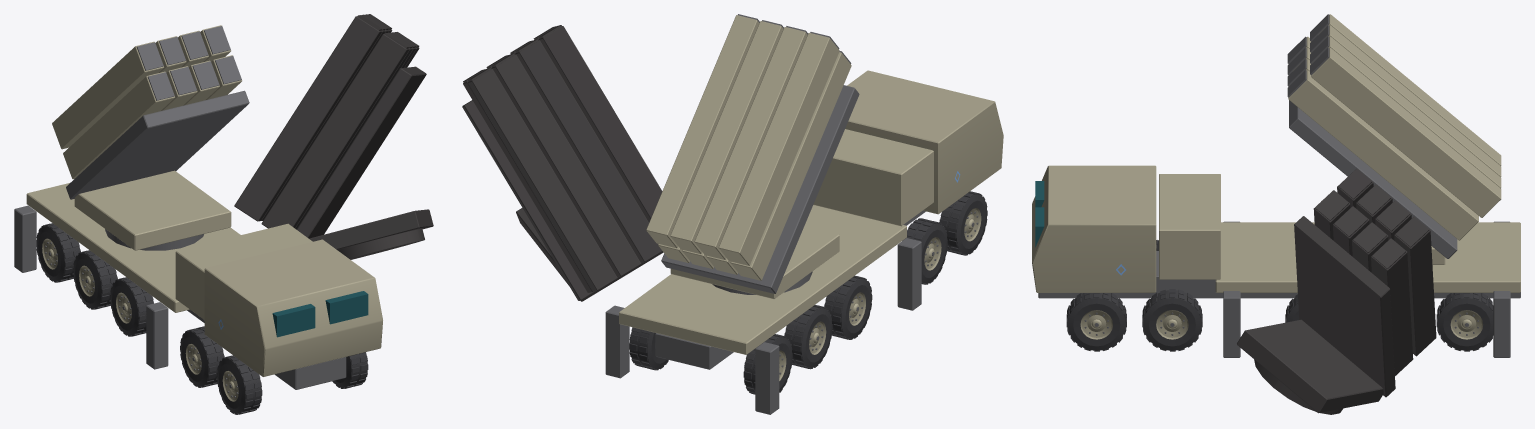
Rendered from saudiThaad__saudi_thaad.glb.
The picture shows the model from 3 angles, left to right: view 1: azimuth 30°, elevation 25°; view 2: azimuth 150°, elevation 25°; view 3: azimuth 270°, elevation 25°; orthographic projection. The views are drawn at different scales.
Parts seen in each view (by area): view 1: Hull_Mesh, Wreck, Gun_Mesh, Turret_Mesh, Wheel_L4_Mesh, Wheel_L3_Mesh, Wheel_L0_Mesh, Wheel_L1_Mesh, Wheel_L2_Mesh, Wheel_R4_Mesh; view 2: Hull_Mesh, Gun_Mesh, Wreck, Turret_Mesh, Wheel_L4_Mesh, Wheel_L1_Mesh, Wheel_L2_Mesh, Wheel_L3_Mesh, Wheel_L0_Mesh, Wheel_R0_Mesh; view 3: Hull_Mesh, Wreck, Gun_Mesh, Wheel_R3_Mesh, Wheel_R4_Mesh, Wheel_R0_Mesh.
Part boxes in pixels (x1=…): Hull_Mesh: x1=14, y1=183, x2=382, y2=389; Wreck: x1=55, y1=14, x2=433, y2=412; Gun_Mesh: x1=52, y1=25, x2=249, y2=199; Turret_Mesh: x1=74, y1=170, x2=231, y2=250; Wheel_L4_Mesh: x1=217, y1=355, x2=262, y2=414; Wheel_L3_Mesh: x1=180, y1=326, x2=224, y2=387; Wheel_L0_Mesh: x1=36, y1=223, x2=80, y2=282; Wheel_L1_Mesh: x1=73, y1=250, x2=117, y2=309; Wheel_L2_Mesh: x1=110, y1=277, x2=153, y2=336; Wheel_R4_Mesh: x1=332, y1=352, x2=368, y2=388; Hull_Mesh: x1=605, y1=70, x2=1003, y2=414; Gun_Mesh: x1=646, y1=14, x2=859, y2=293; Wreck: x1=462, y1=25, x2=846, y2=369; Turret_Mesh: x1=670, y1=226, x2=839, y2=298; Wheel_L4_Mesh: x1=939, y1=191, x2=987, y2=255; Wheel_L1_Mesh: x1=784, y1=305, x2=832, y2=369; Wheel_L2_Mesh: x1=824, y1=275, x2=872, y2=339; Wheel_L3_Mesh: x1=902, y1=218, x2=947, y2=284; Wheel_L0_Mesh: x1=743, y1=334, x2=792, y2=394; Wheel_R0_Mesh: x1=629, y1=327, x2=668, y2=370; Hull_Mesh: x1=1032, y1=165, x2=1520, y2=357; Wreck: x1=1078, y1=168, x2=1457, y2=414; Gun_Mesh: x1=1287, y1=14, x2=1501, y2=258; Wheel_R3_Mesh: x1=1142, y1=289, x2=1202, y2=351; Wheel_R4_Mesh: x1=1066, y1=293, x2=1126, y2=351; Wheel_R0_Mesh: x1=1436, y1=293, x2=1493, y2=351.
Size of what is drawn, in the model's own units: 7.64 by 5.84 by 9.05.
